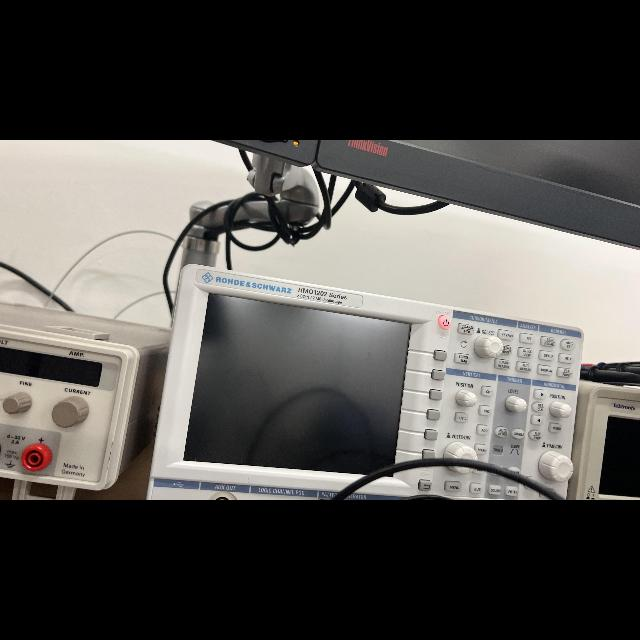Digital-Oscilloscope: (149, 264, 583, 500)
